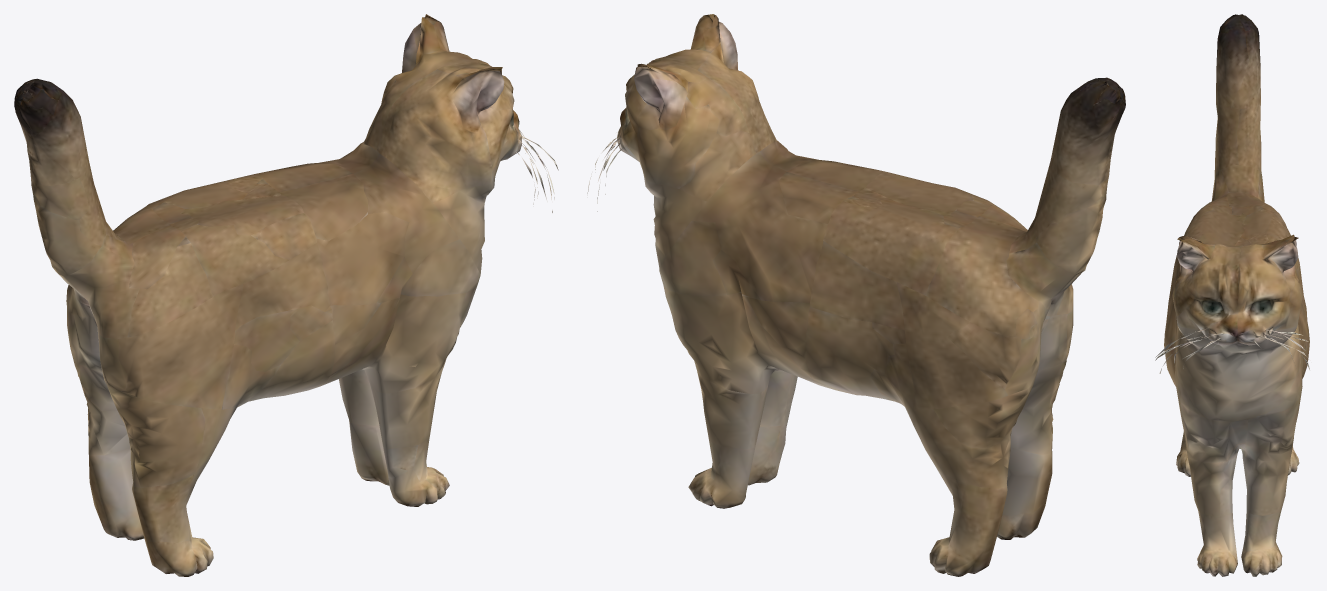
File: SWEETCORN-lo.glb
3 views of the same model, side by side, from view 1: azimuth 30°, elevation 25°; view 2: azimuth 150°, elevation 25°; view 3: azimuth 270°, elevation 25° (orthographic). The views are drawn at different scales.
Parts seen in each view (by area): view 1: tripo_node_cc3ce785-c8f3-470b-8a7b-1d639890e576; view 2: tripo_node_cc3ce785-c8f3-470b-8a7b-1d639890e576; view 3: tripo_node_cc3ce785-c8f3-470b-8a7b-1d639890e576.
Boxes of the visible parts, left/top/right/bottom form: tripo_node_cc3ce785-c8f3-470b-8a7b-1d639890e576: left=14, top=14, right=558, bottom=576; tripo_node_cc3ce785-c8f3-470b-8a7b-1d639890e576: left=587, top=14, right=1125, bottom=576; tripo_node_cc3ce785-c8f3-470b-8a7b-1d639890e576: left=1155, top=14, right=1309, bottom=576.
Size of the model in its own units: 1.07 by 0.9982 by 0.3545.
1 material, 1 textured.
